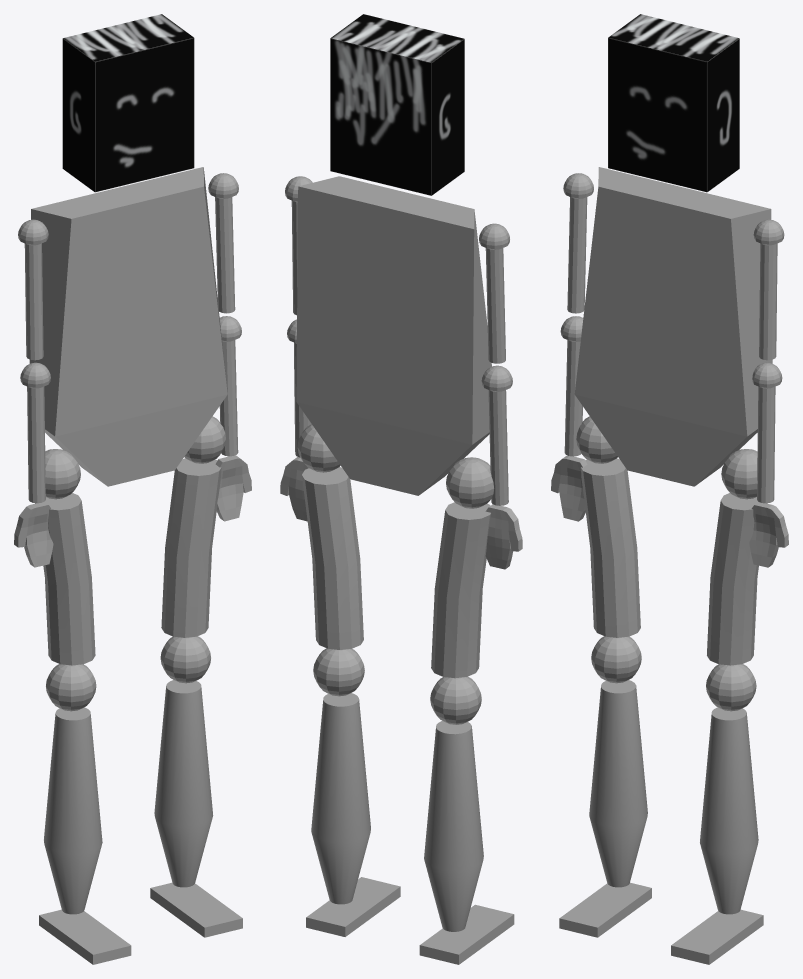
File: TheGUYArmsFlat.fbx
3 views of the same model, side by side, from view 1: azimuth 30°, elevation 25°; view 2: azimuth 150°, elevation 25°; view 3: azimuth 330°, elevation 25° (orthographic).
Visible parts, largest first — view 1: core, head, l_lower_leg, r_lower_leg, l_thigh, r_thigh, r_foot, l_foot, r_lower_arm, r_upper_arm, l_upper_arm, l_lower_arm (+6 smaller); view 2: core, head, l_lower_leg, r_lower_leg, l_thigh, r_thigh, r_foot, l_foot, r_upper_arm, r_lower_arm, r_knee, r_hip (+6 smaller); view 3: core, head, r_lower_leg, l_lower_leg, r_thigh, l_thigh, l_foot, r_foot, l_upper_arm, r_upper_arm, l_lower_arm, r_lower_arm (+6 smaller).
Part boxes in pixels (x1,y1,x2,y2): core: (29, 167, 227, 486); head: (62, 14, 194, 192); l_lower_leg: (154, 680, 213, 887); r_lower_leg: (44, 707, 102, 914); l_thigh: (161, 458, 221, 637); r_thigh: (35, 493, 95, 665); r_foot: (39, 909, 131, 964); l_foot: (150, 882, 242, 937); r_lower_arm: (20, 362, 50, 503); r_upper_arm: (18, 219, 48, 360); l_upper_arm: (208, 173, 238, 313); l_lower_arm: (219, 316, 241, 456); core: (296, 176, 491, 495); head: (330, 14, 464, 195); l_lower_leg: (311, 693, 370, 904); r_lower_leg: (424, 721, 483, 931); l_thigh: (302, 467, 363, 649); r_thigh: (431, 502, 491, 678); r_foot: (419, 904, 514, 964); l_foot: (306, 877, 400, 936); r_upper_arm: (479, 223, 509, 363); r_lower_arm: (481, 365, 512, 505); r_knee: (430, 676, 481, 724); r_hip: (446, 457, 494, 508); core: (574, 167, 772, 486); head: (608, 14, 739, 192); r_lower_leg: (589, 680, 647, 887); l_lower_leg: (700, 707, 758, 914); r_thigh: (580, 458, 640, 637); l_thigh: (707, 493, 766, 665); l_foot: (671, 909, 763, 964); r_foot: (559, 882, 651, 937); l_upper_arm: (753, 219, 784, 360); r_upper_arm: (563, 173, 593, 313); l_lower_arm: (752, 362, 782, 503); r_lower_arm: (560, 316, 583, 456).
Size of the model in its own units: 2.49 by 8.95 by 1.03.
Materials: 2 (1 with a texture image).
